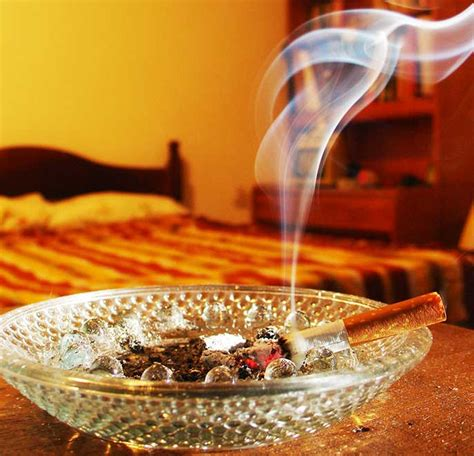cigarette: (276, 289, 446, 364)
